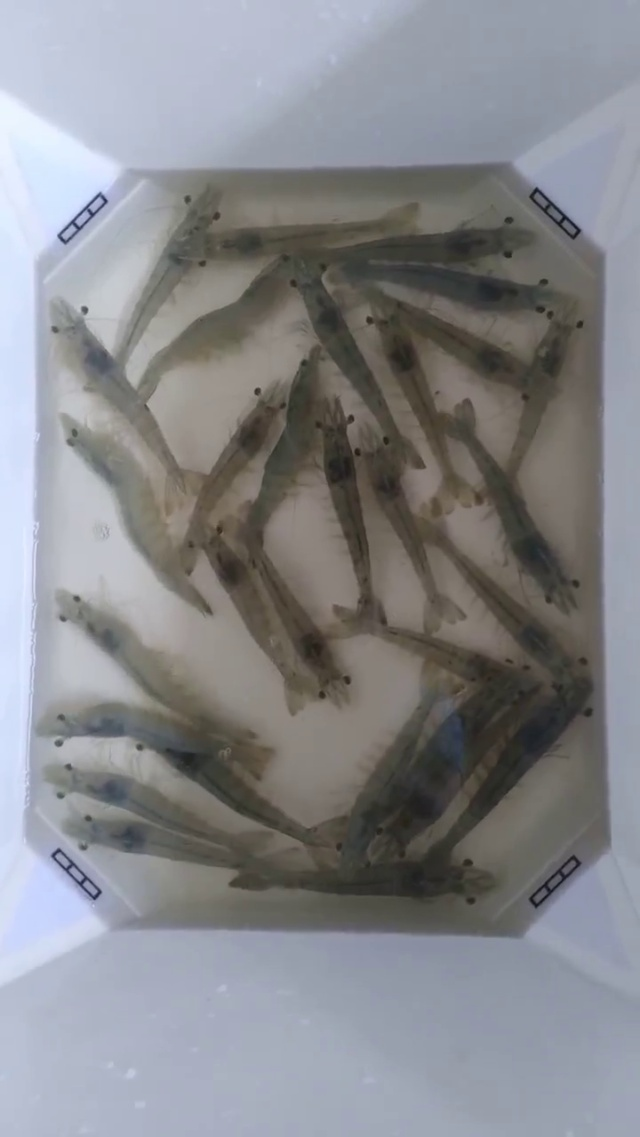shrimp: (562, 161, 639, 502), (0, 513, 119, 731), (555, 444, 639, 737), (473, 574, 589, 749), (406, 762, 523, 930), (67, 740, 175, 920), (40, 414, 148, 590), (0, 713, 104, 886), (423, 399, 535, 554), (35, 178, 124, 371), (121, 186, 217, 355), (51, 298, 161, 443), (180, 408, 276, 573), (33, 334, 113, 531), (396, 632, 513, 764), (317, 235, 427, 371), (338, 348, 424, 514), (209, 175, 335, 284), (455, 164, 550, 307), (299, 766, 380, 894), (0, 204, 37, 482), (313, 579, 385, 707), (72, 702, 186, 780), (0, 614, 34, 838)
